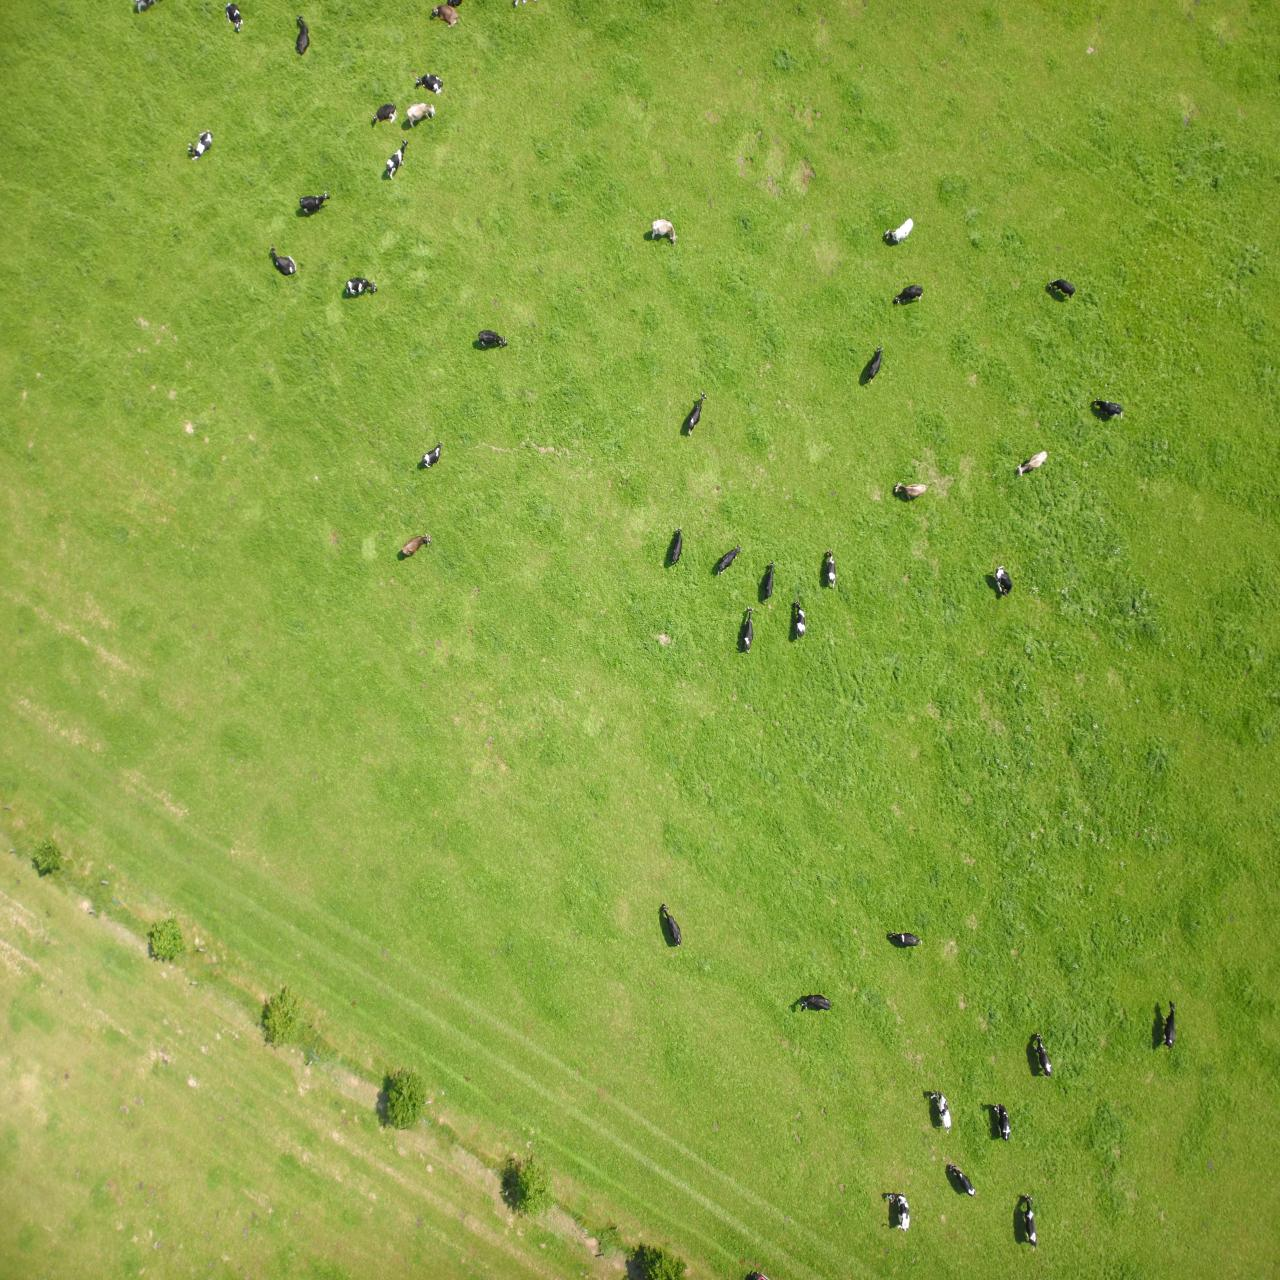cow: (871, 1099, 893, 1141), (599, 333, 619, 376), (370, 49, 393, 88), (305, 84, 331, 117), (329, 147, 349, 189), (573, 844, 592, 888), (983, 1005, 1009, 1036), (243, 26, 256, 87), (232, 803, 263, 829), (538, 703, 563, 735), (227, 203, 245, 246), (847, 722, 878, 747), (1067, 1119, 1091, 1150), (353, 778, 386, 801), (602, 1034, 628, 1062), (844, 1153, 873, 1178), (949, 1065, 980, 1089), (367, 1036, 395, 1061), (104, 227, 117, 279), (270, 139, 286, 179), (157, 859, 185, 881), (356, 975, 387, 995), (358, 331, 392, 348), (837, 1184, 863, 1206), (903, 985, 933, 1003), (448, 267, 479, 285), (267, 683, 285, 715), (772, 932, 802, 951), (822, 1253, 846, 1275), (397, 896, 411, 934), (971, 1224, 983, 1266), (204, 982, 230, 1002), (838, 812, 858, 838), (884, 1156, 907, 1177), (1036, 1250, 1054, 1278), (526, 625, 536, 675), (505, 675, 516, 719), (443, 692, 454, 731), (475, 640, 485, 679), (598, 715, 608, 751)
